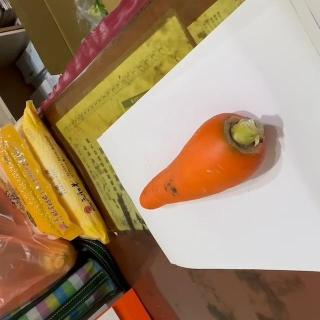carrot: (138, 110, 270, 212)
